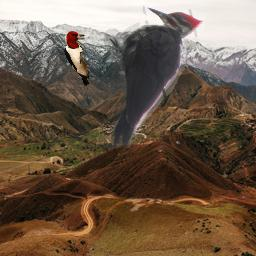Woodpecker: (104, 5, 205, 148), (64, 31, 89, 86)
